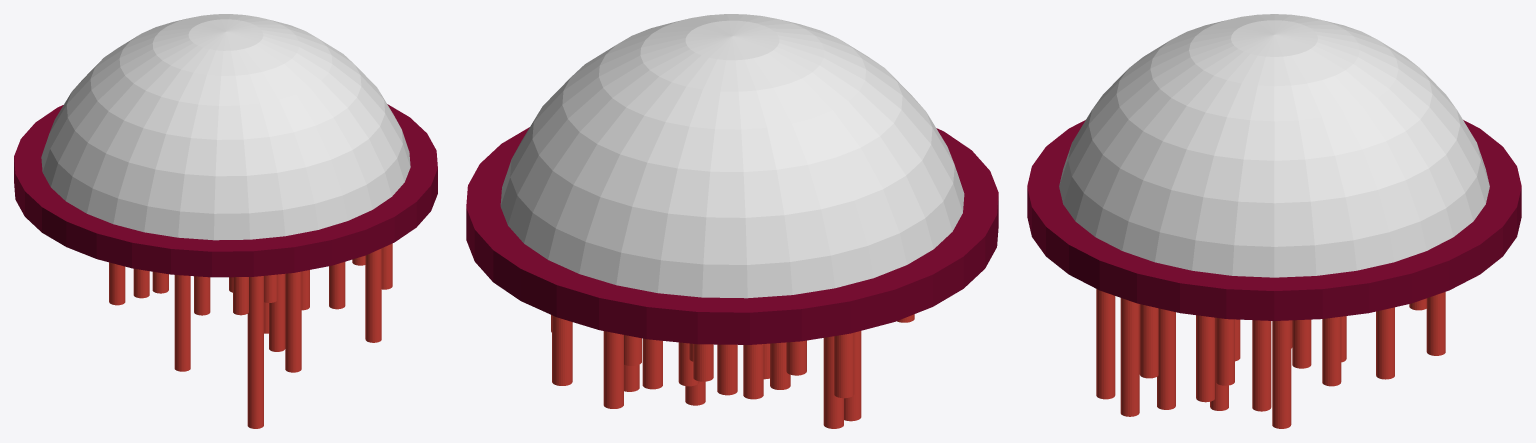
Rendered from domeStation.fbx.
The picture shows the model from 3 angles, left to right: view 1: azimuth 30°, elevation 25°; view 2: azimuth 150°, elevation 25°; view 3: azimuth 270°, elevation 25°; orthographic projection. The views are drawn at different scales.
Visible parts, largest first — view 1: Cube; view 2: Cube; view 3: Cube.
Part boxes in pixels (bbox=[...]): Cube: bbox=[14, 14, 437, 428]; Cube: bbox=[466, 14, 998, 428]; Cube: bbox=[1027, 14, 1521, 428].
Size of the model in its own units: 221 by 196 by 221.
